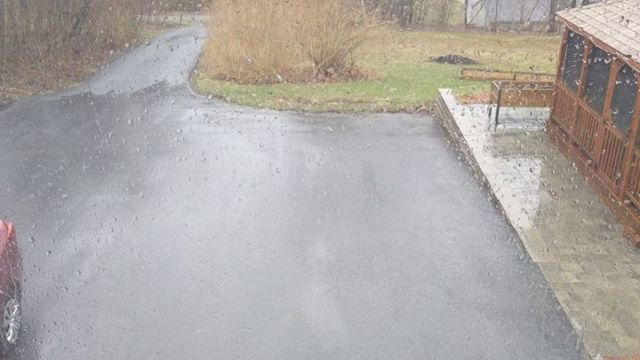building: (551, 6, 640, 325)
grass: (222, 32, 559, 106)
street: (1, 20, 549, 351)
